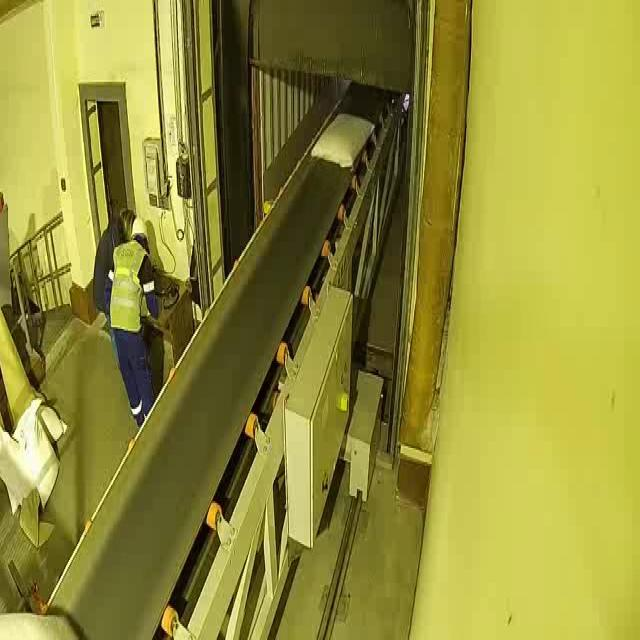bag: (309, 106, 376, 170), (0, 606, 84, 636)
